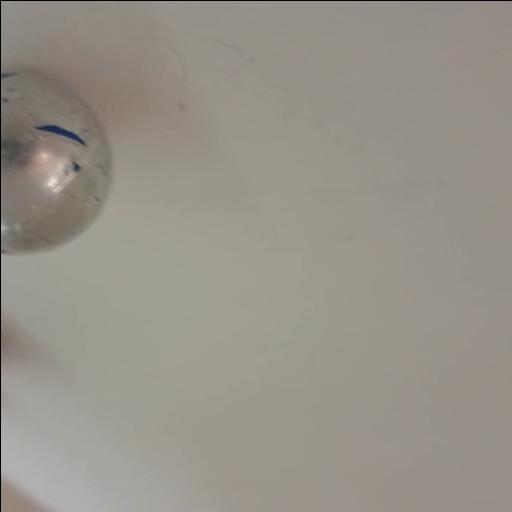alive: (0, 66, 114, 254)
